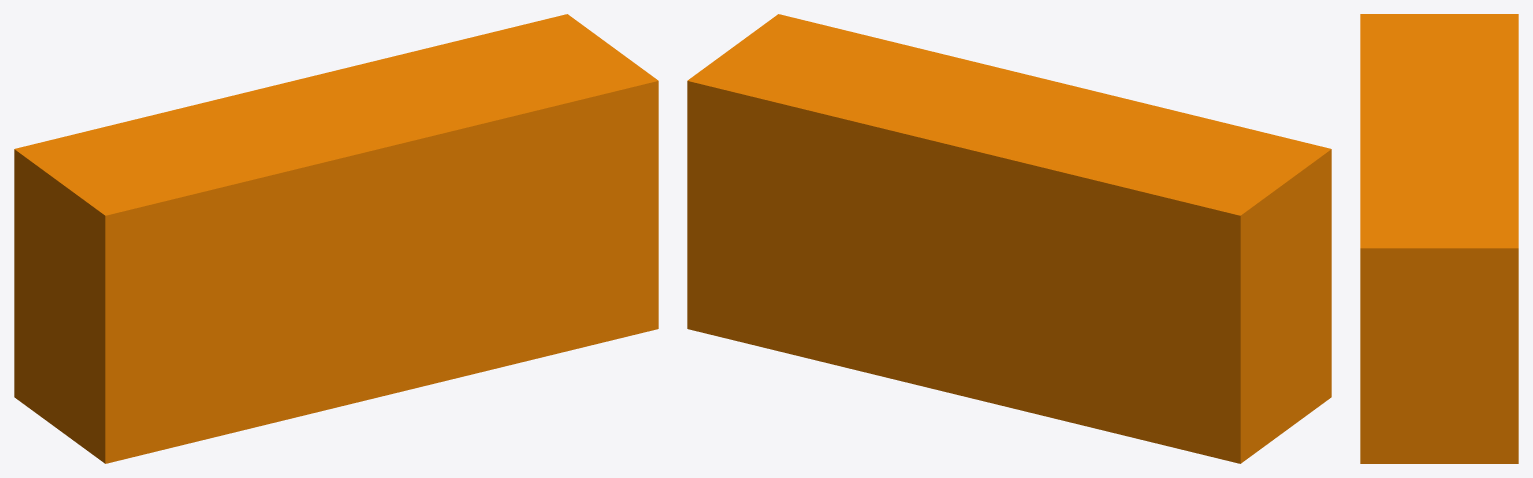
The model's file is cartuccia.gltf.
The picture shows the model from 3 angles, left to right: view 1: azimuth 30°, elevation 25°; view 2: azimuth 150°, elevation 25°; view 3: azimuth 270°, elevation 25°; orthographic projection. The views are drawn at different scales.
Visible parts, largest first — view 1: Layer.1; view 2: Layer.1; view 3: Layer.1.
Part boxes in pixels (<box>): Layer.1: <box>14,14,658,463</box>; Layer.1: <box>687,14,1331,463</box>; Layer.1: <box>1360,14,1518,463</box>.
Size of the model in its own units: 7 by 3 by 2.
1 material, 1 textured.
